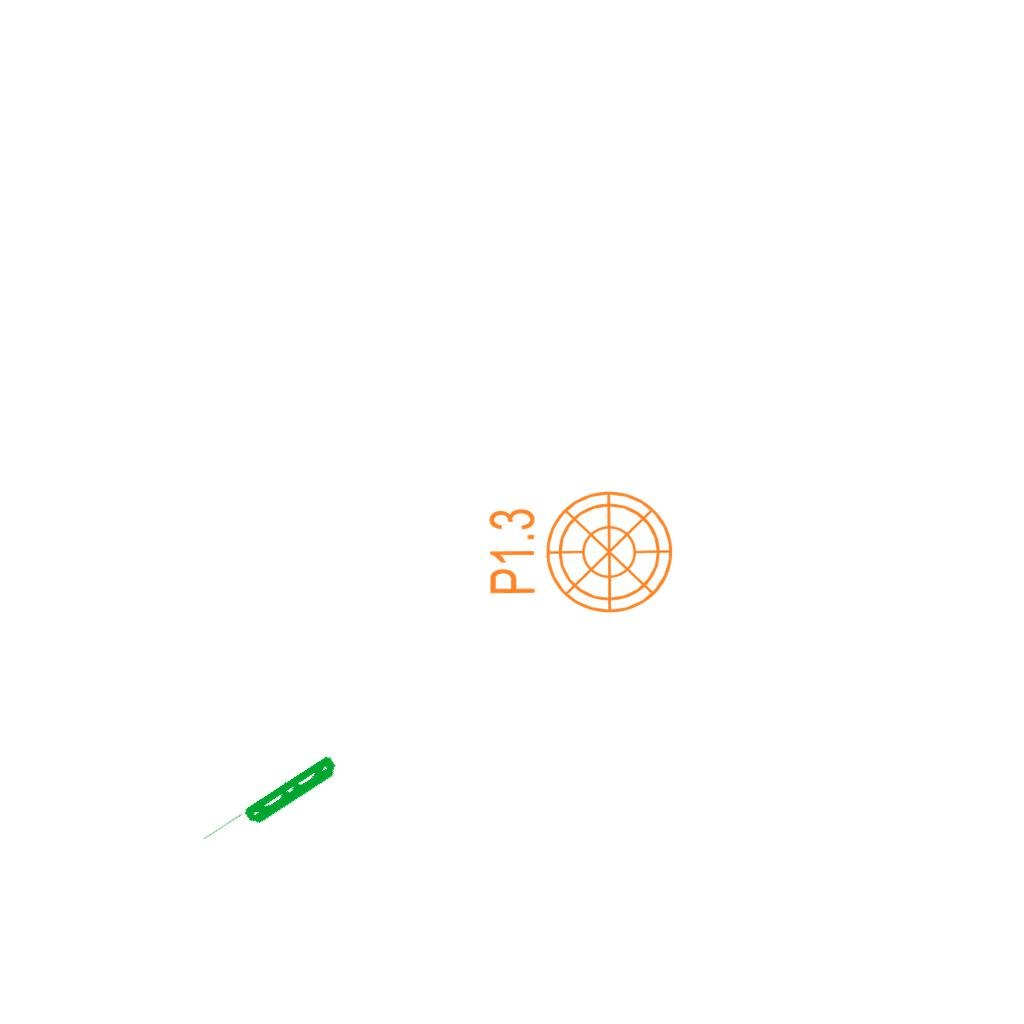Aufbaurundleuchte_LED_Treppenhaus: (471, 477, 676, 616)
Sicherheitsleuchte_Wandeinbau: (197, 751, 344, 860)
